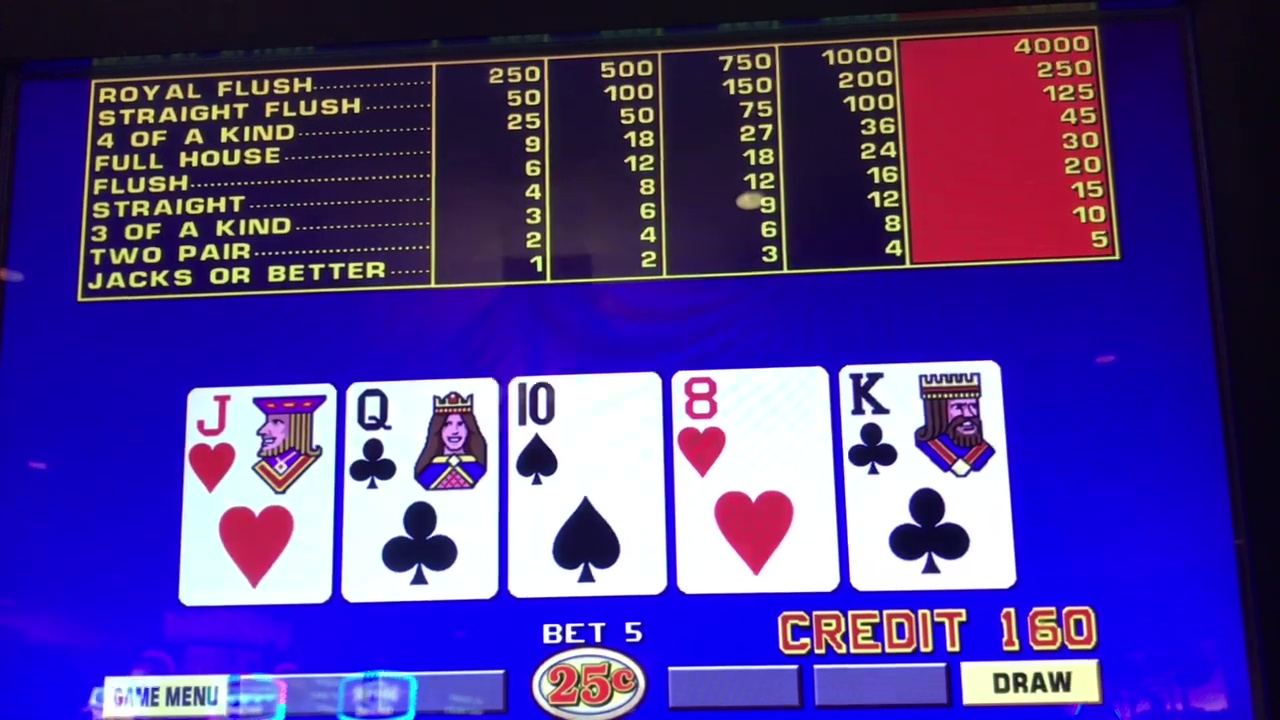CK: (845, 365, 999, 489)
CQ: (348, 383, 493, 499)
H8: (677, 372, 833, 491)
HJ: (192, 389, 330, 505)
ST: (515, 380, 659, 495)
